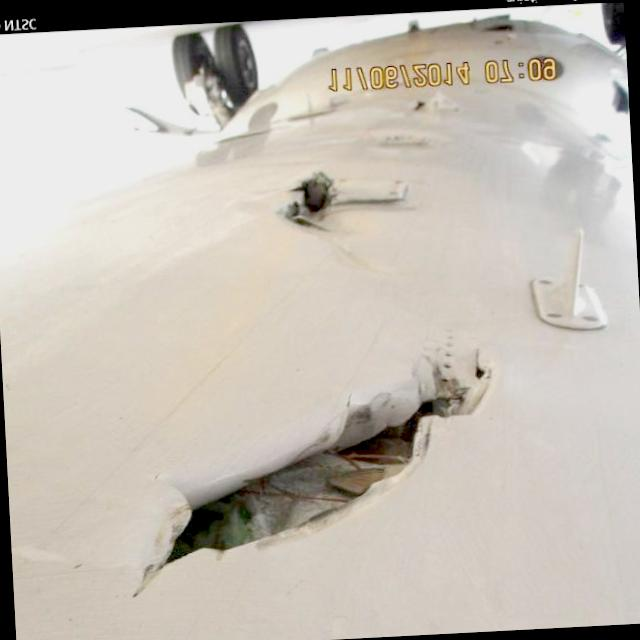crack: (120, 333, 510, 597), (147, 339, 501, 578), (142, 395, 457, 587), (275, 170, 342, 229)
